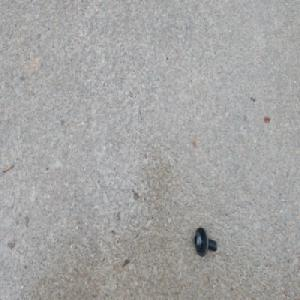BoltWasher: (191, 226, 215, 257)
